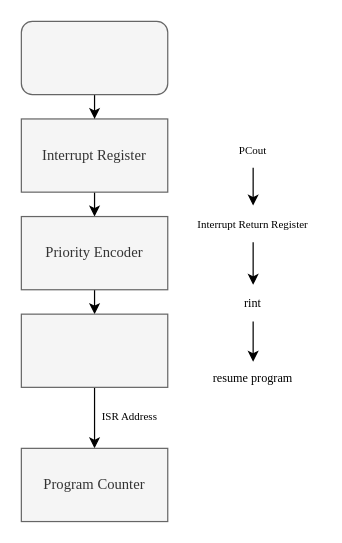
Image size: 342x543. Some labels were removed from this diagram. The shapes that lost their labels are listed below. From the top down, each one's centre as x and y in pixels, then its label:
point 94,57: Int0 - Int7
point 94,350: Interrupt Vector Table
